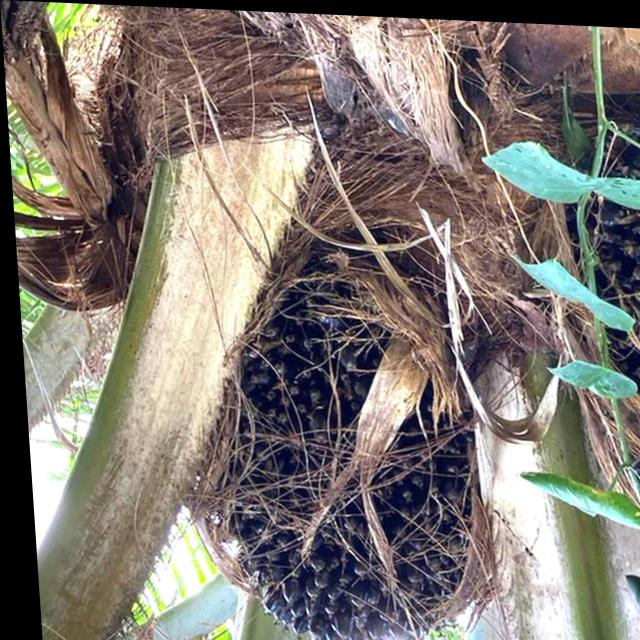unripe: (185, 282, 488, 640)
